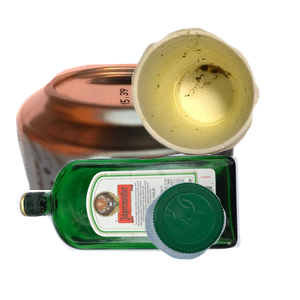glass: (14, 150, 247, 300)
metal: (13, 61, 240, 241)
plastic: (142, 179, 300, 300)
trash: (129, 25, 300, 173)
